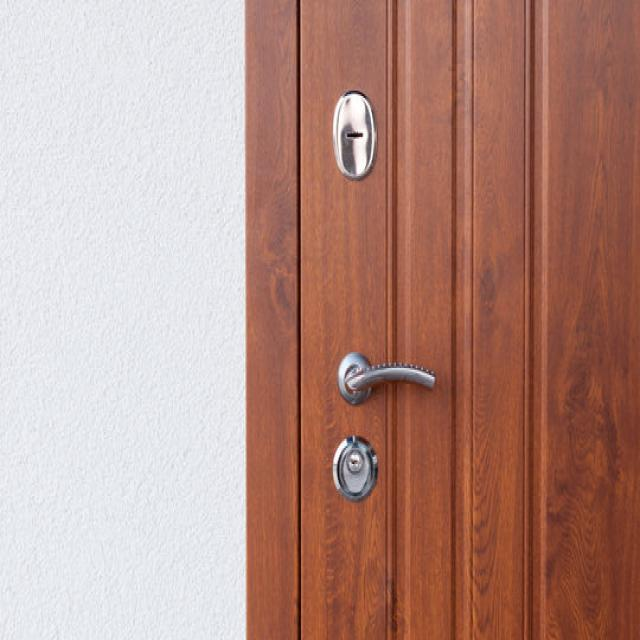door-handle: (339, 352, 436, 405)
